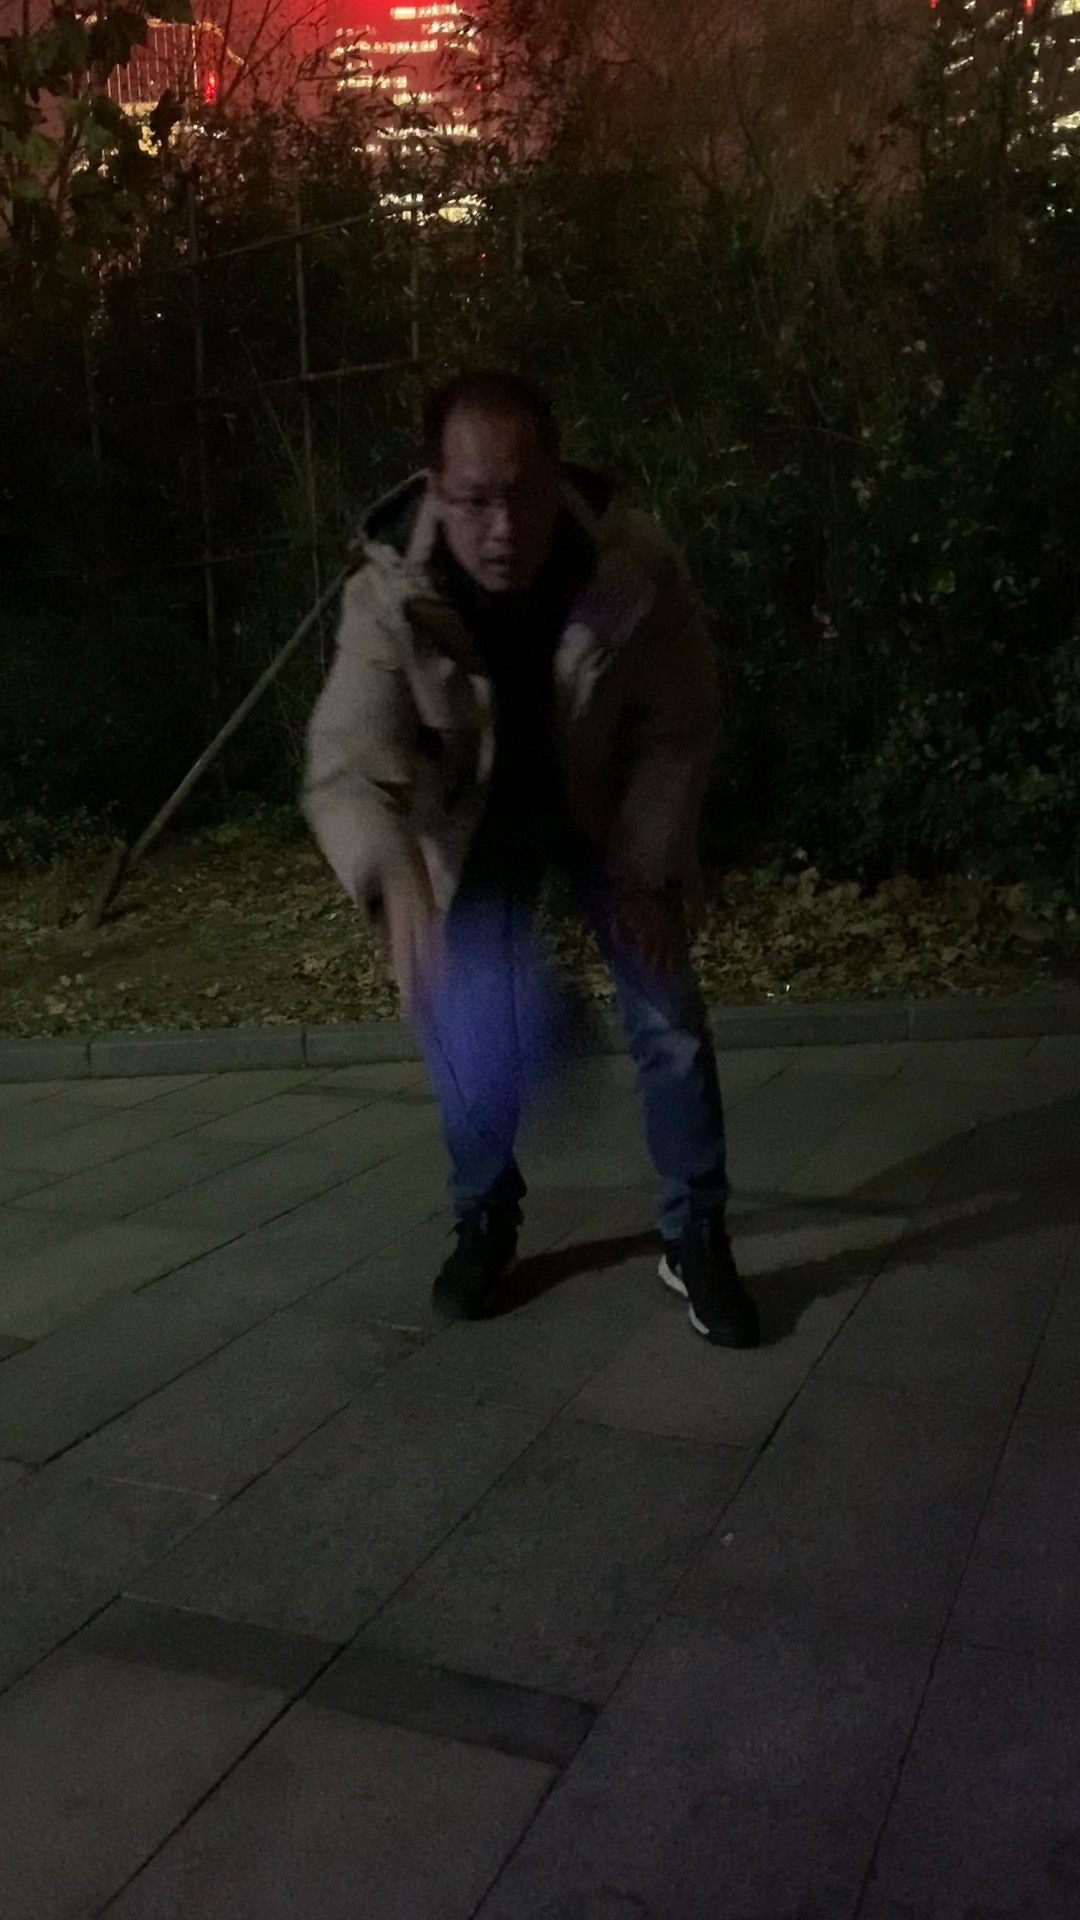ball: (436, 957, 607, 1129)
